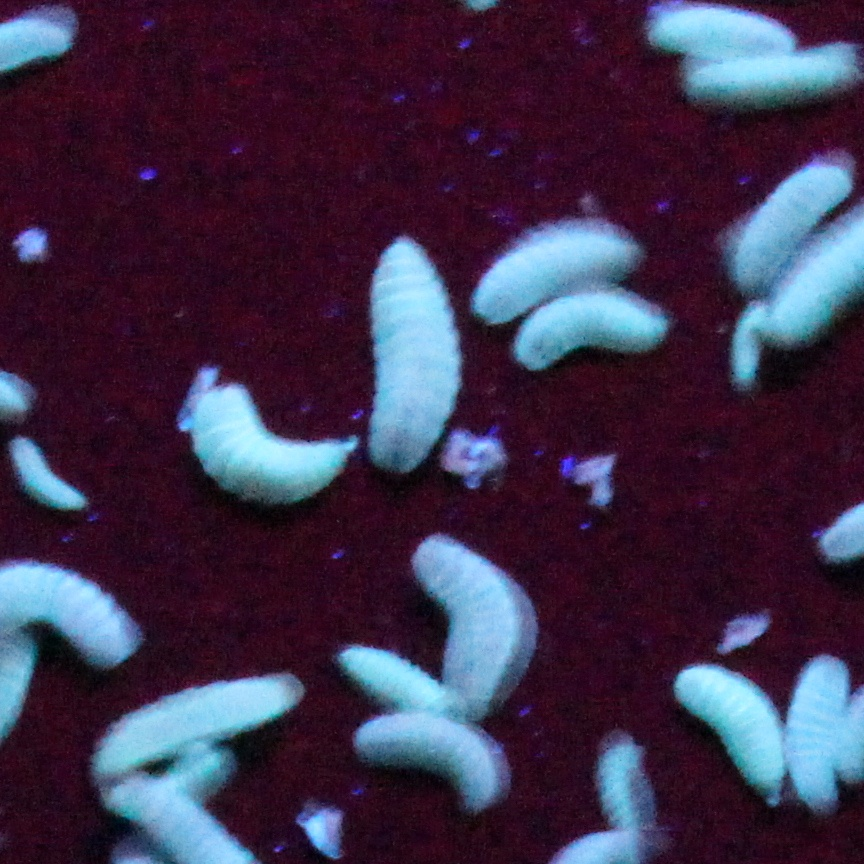larve: (367, 239, 460, 478), (95, 679, 300, 772), (421, 533, 522, 715), (191, 388, 343, 507), (724, 157, 849, 277), (348, 712, 505, 807), (671, 669, 784, 796), (476, 227, 639, 308), (516, 308, 676, 373), (790, 657, 847, 812), (688, 53, 858, 104), (334, 650, 449, 714), (635, 11, 794, 53), (595, 732, 654, 838), (14, 437, 83, 515), (730, 301, 772, 386)
